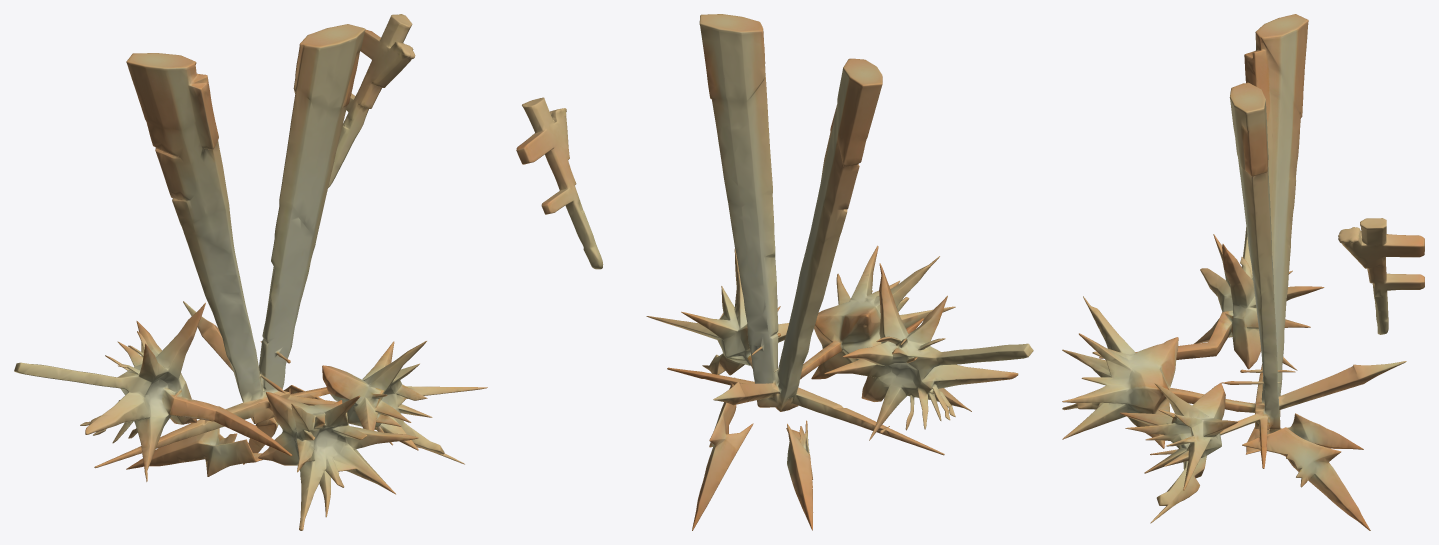
The model's file is light_c.glb.
3 views of the same model, side by side, from view 1: azimuth 30°, elevation 25°; view 2: azimuth 150°, elevation 25°; view 3: azimuth 270°, elevation 25° (orthographic). The views are drawn at different scales.
Visible parts, largest first — view 1: tripo_node_b8687d6d-f969-4e94-911b-ca5df76b0878; view 2: tripo_node_b8687d6d-f969-4e94-911b-ca5df76b0878; view 3: tripo_node_b8687d6d-f969-4e94-911b-ca5df76b0878.
Boxes of the visible parts, x1=… form: tripo_node_b8687d6d-f969-4e94-911b-ca5df76b0878: x1=14, y1=14, x2=487, y2=530; tripo_node_b8687d6d-f969-4e94-911b-ca5df76b0878: x1=516, y1=14, x2=1033, y2=530; tripo_node_b8687d6d-f969-4e94-911b-ca5df76b0878: x1=1062, y1=14, x2=1424, y2=530.
Bounding box in the file's own units: 0.9794 × 0.9622 × 0.7108.
Materials: 1 (1 with a texture image).
